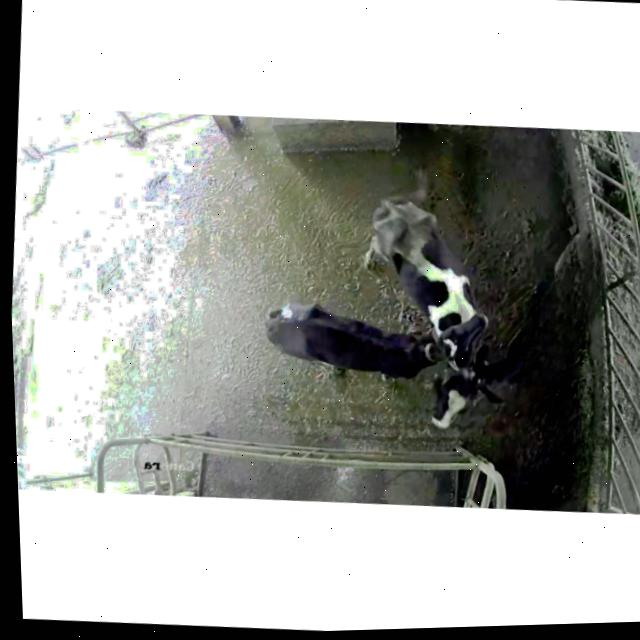propping: (389, 298, 507, 380)
